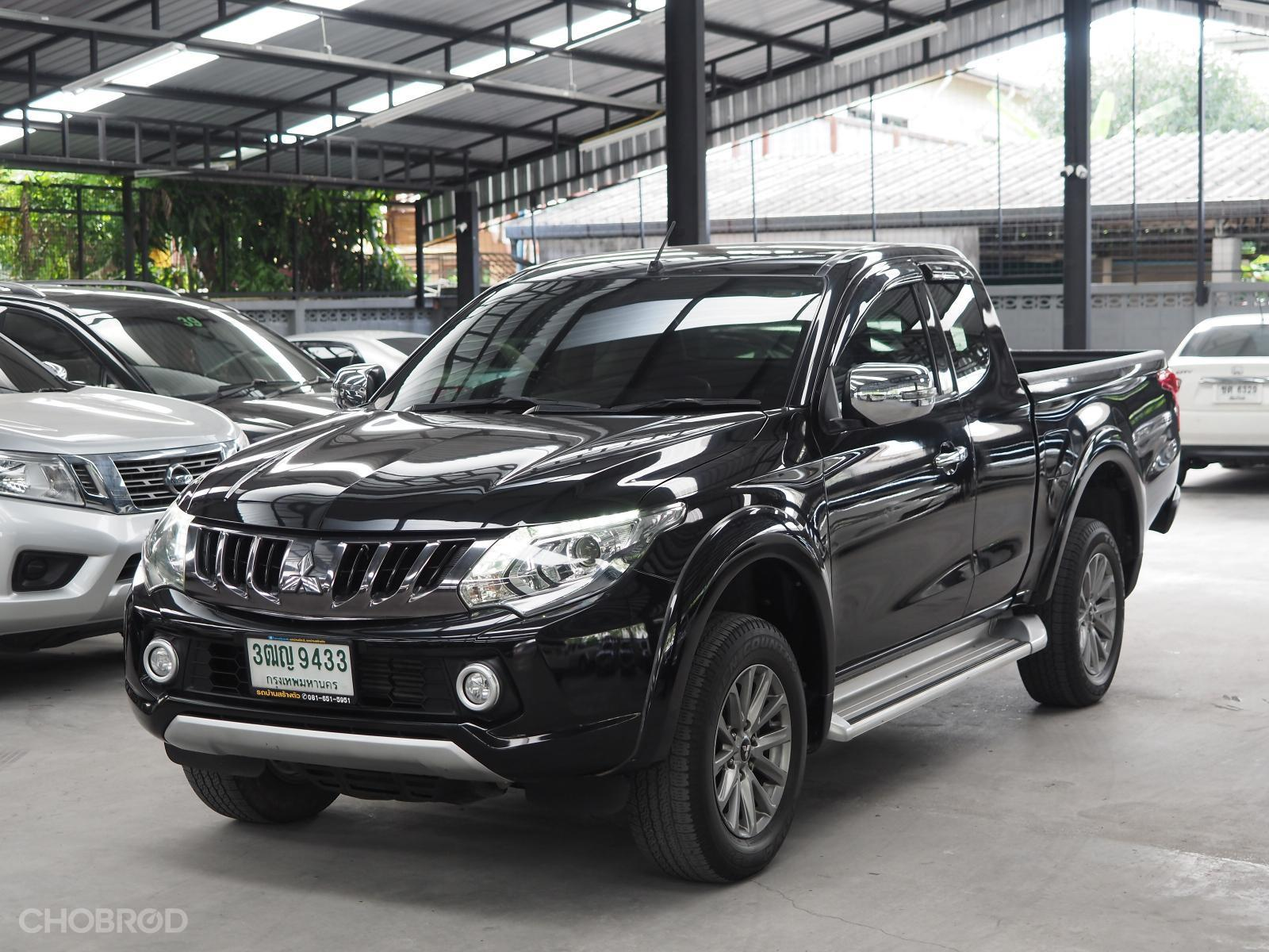license-plate: (240, 629, 362, 710), (1214, 378, 1264, 408)
